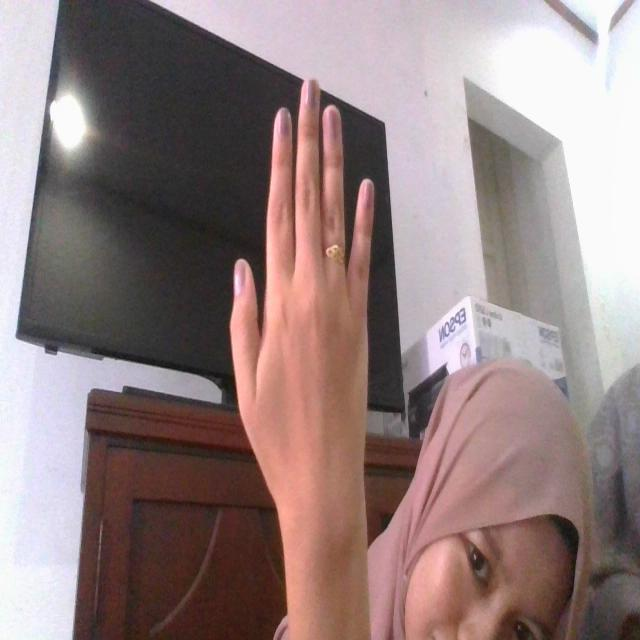hand: (228, 75, 379, 562)
